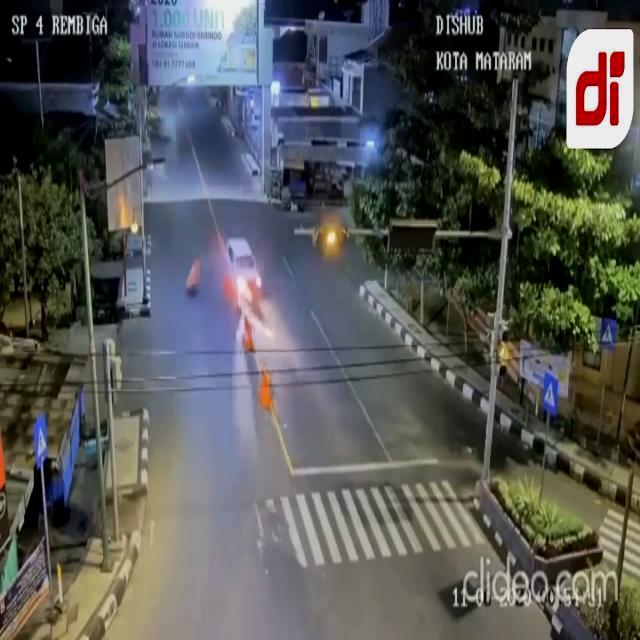accident: (220, 234, 266, 354)
